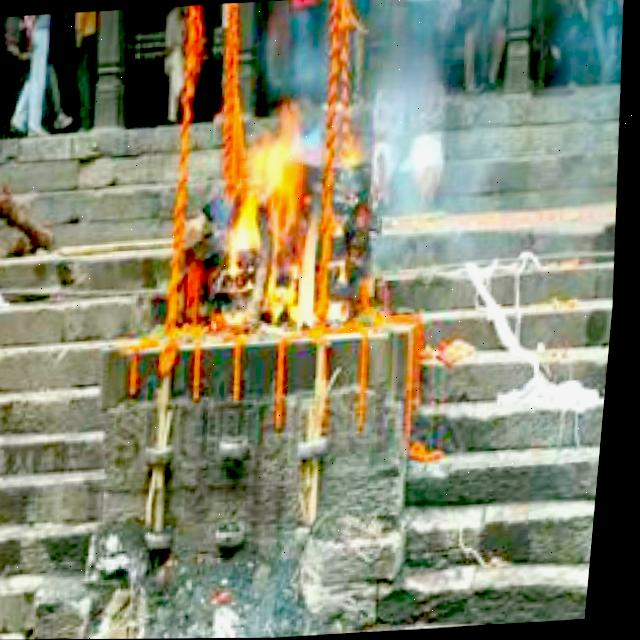Fire: (223, 104, 342, 335)
